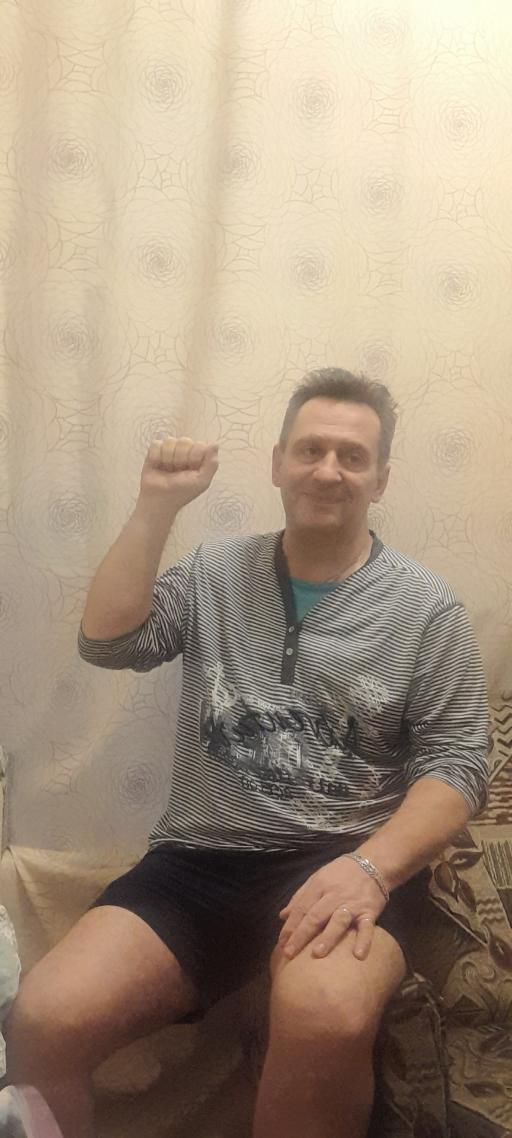fist: (139, 434, 220, 508)
no_gesture: (275, 855, 385, 959)
